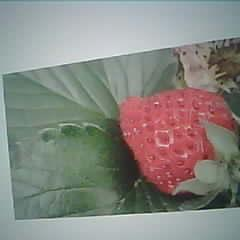straw-ripe: (119, 89, 233, 196)
